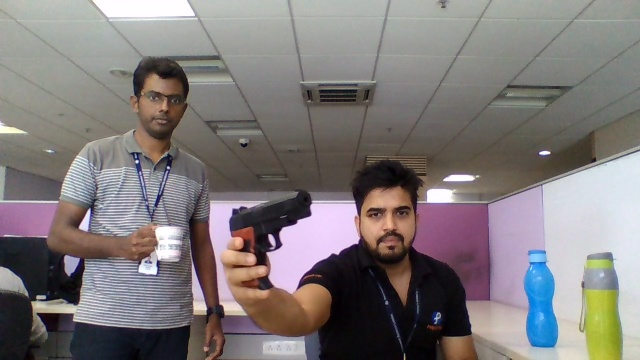gun: (242, 188, 314, 254)
